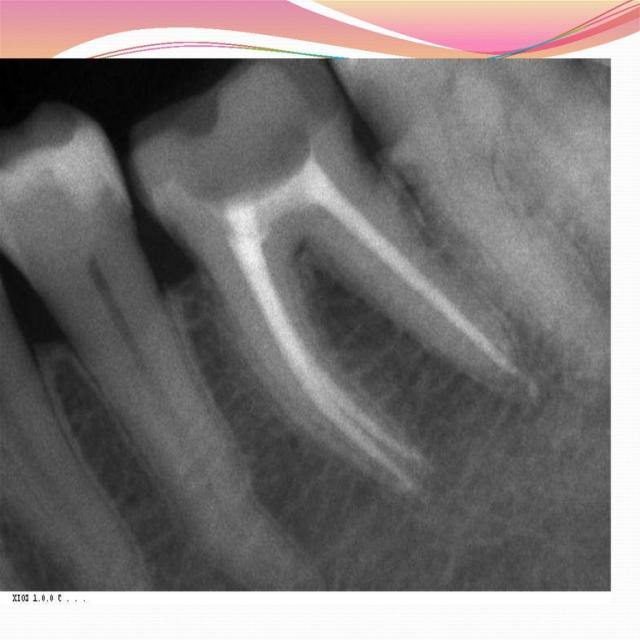Caries: (143, 70, 364, 554)
